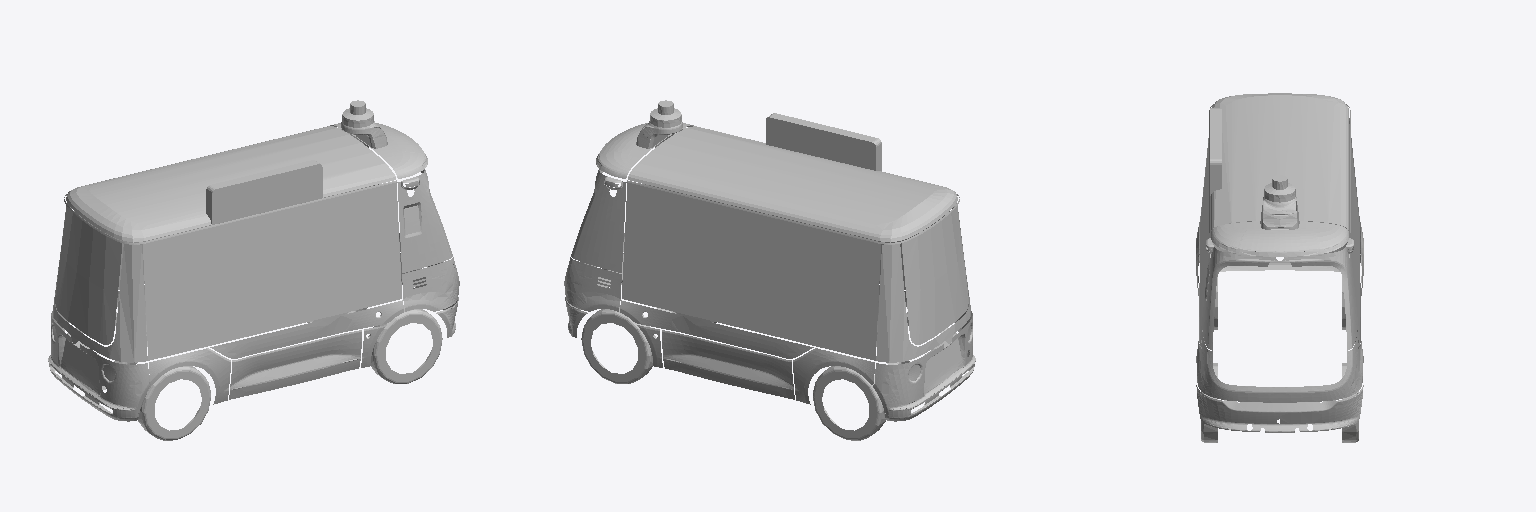
The model's file is car.obj.
3 views of the same model, side by side, from view 1: azimuth 30°, elevation 25°; view 2: azimuth 150°, elevation 25°; view 3: azimuth 270°, elevation 25° (orthographic).
Bounding box in the file's own units: 5.61 × 3.79 × 2.27.